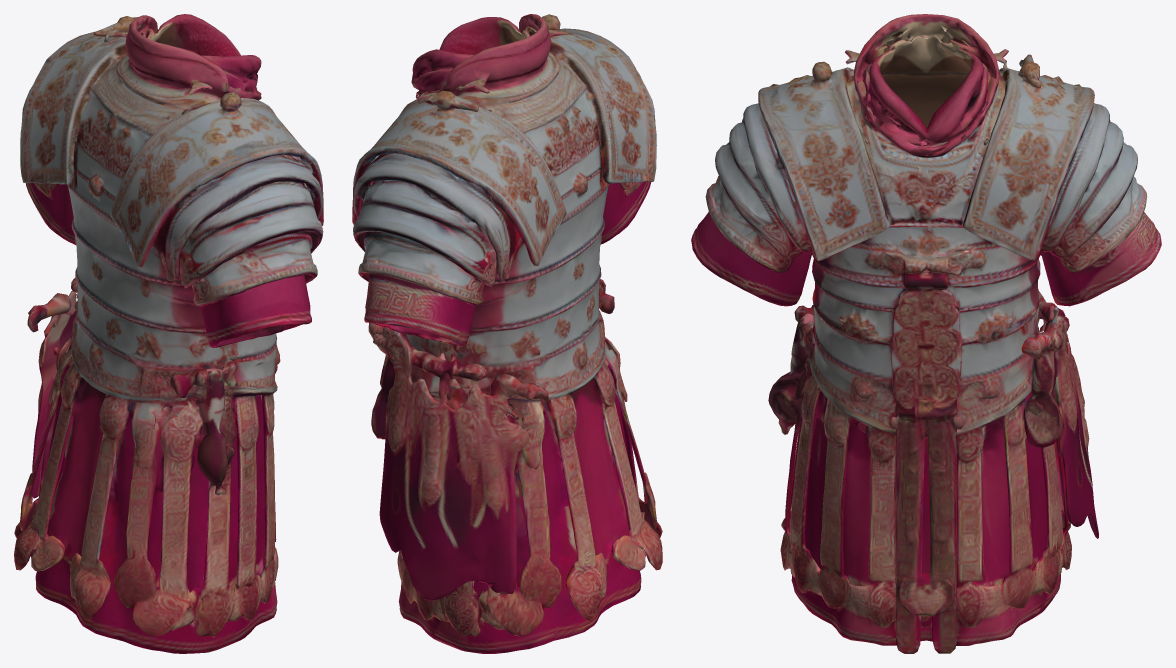
File: bodyarmor02.glb
3 renders of one model, left to right at view 1: azimuth 30°, elevation 25°; view 2: azimuth 150°, elevation 25°; view 3: azimuth 270°, elevation 25°, orthographic.
Parts seen in each view (by area): view 1: tripo_node_28d9336a-88df-4b53-a35a-136af9ba69f8; view 2: tripo_node_28d9336a-88df-4b53-a35a-136af9ba69f8; view 3: tripo_node_28d9336a-88df-4b53-a35a-136af9ba69f8.
Part boxes in pixels (left/top/right/bottom): tripo_node_28d9336a-88df-4b53-a35a-136af9ba69f8: left=14, top=14, right=323, bottom=653; tripo_node_28d9336a-88df-4b53-a35a-136af9ba69f8: left=352, top=14, right=662, bottom=653; tripo_node_28d9336a-88df-4b53-a35a-136af9ba69f8: left=691, top=14, right=1161, bottom=653.
Size of the model in its own units: 0.4011 by 1 by 0.7335.
1 material, 1 textured.
